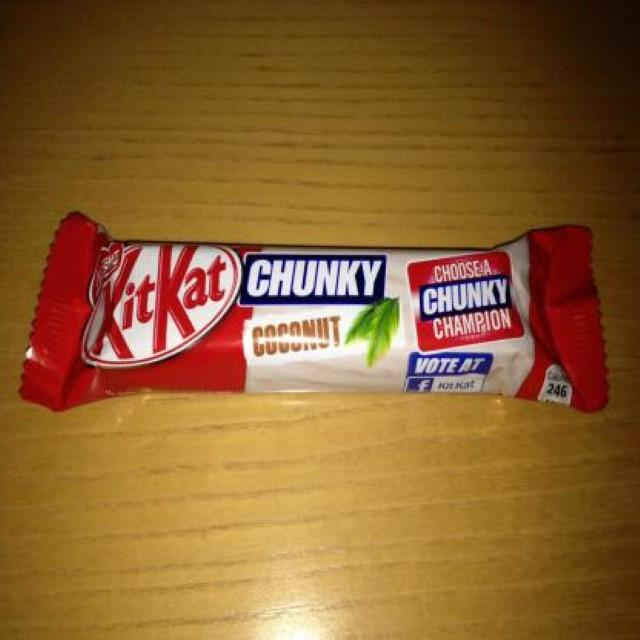kitkat_chocolate: (76, 206, 640, 491)
